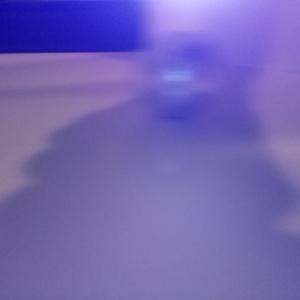alive_ball: (135, 32, 224, 119)
